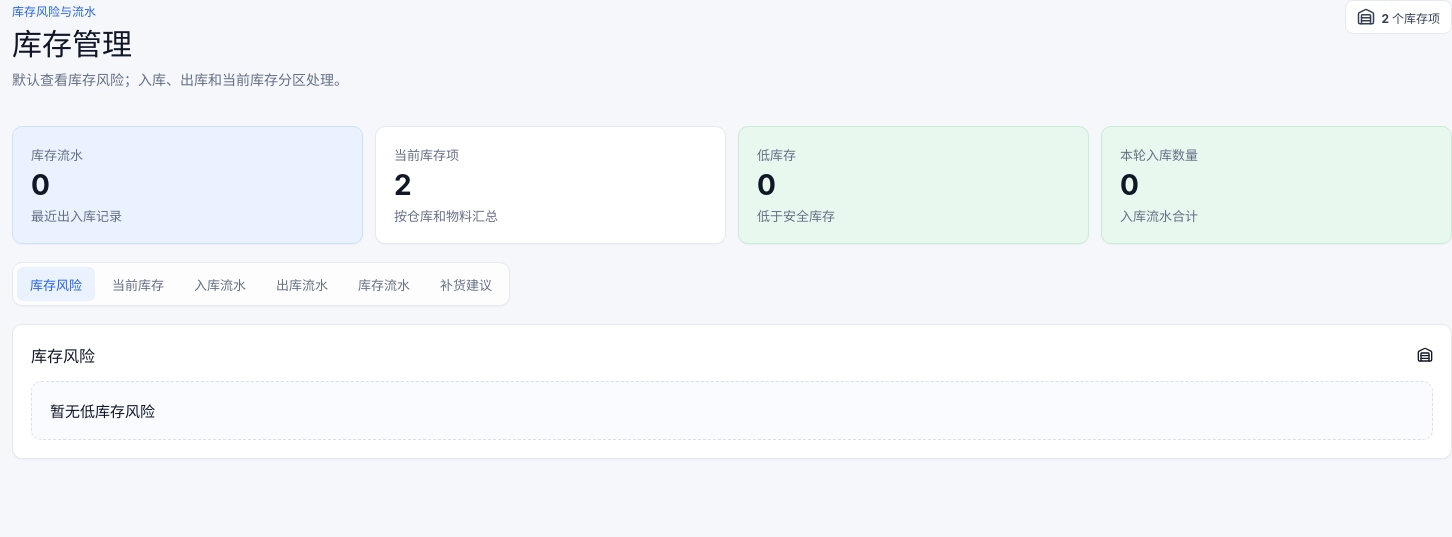
Test: Company ERP workspace components › sorts the current-stock table by quantity when the column header is clicked
Check: the text "暂无低库存风险" is shown, box [50, 402, 155, 422]
Click the tab "当前库存". click: (138, 284)
box: [99, 268, 177, 302]
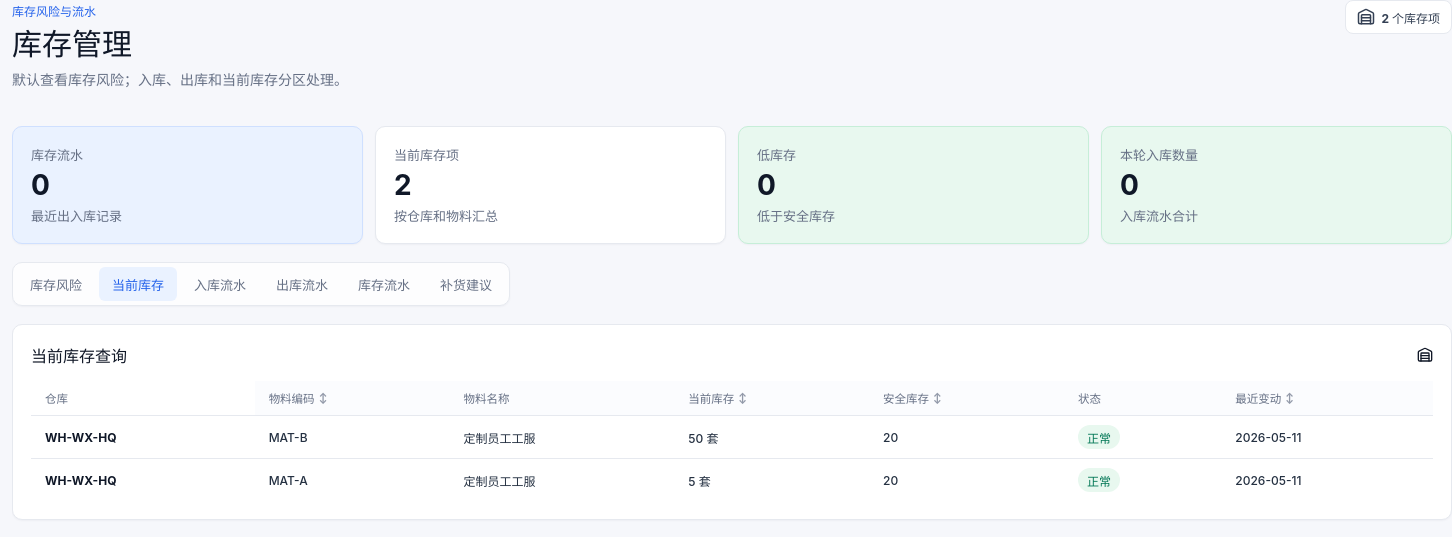
Check: the text "MAT-A" is shown, box [255, 459, 449, 502]
Check: the text "MAT-B" is shown, box [255, 416, 449, 459]
Click the button "当前库存 ↕". click: (718, 398)
box: [688, 390, 747, 406]
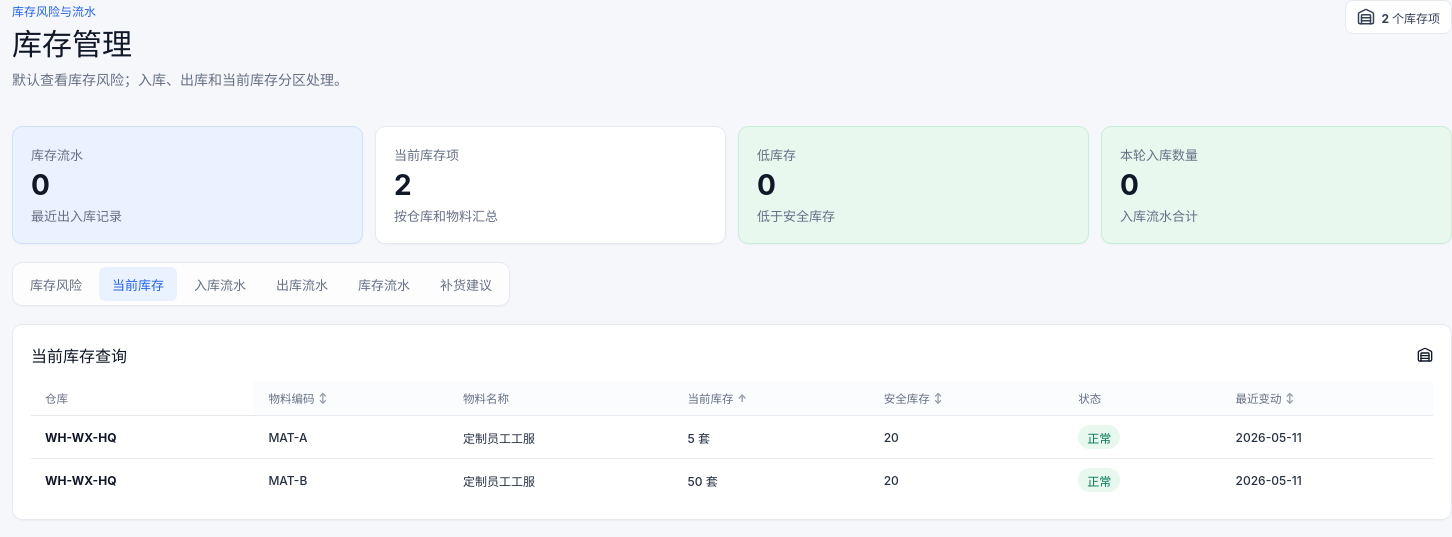
Check: the text "MAT-A" is shown, box [254, 416, 449, 459]
Click the button "当前库存 ↑". click: (717, 398)
box: [688, 390, 747, 406]
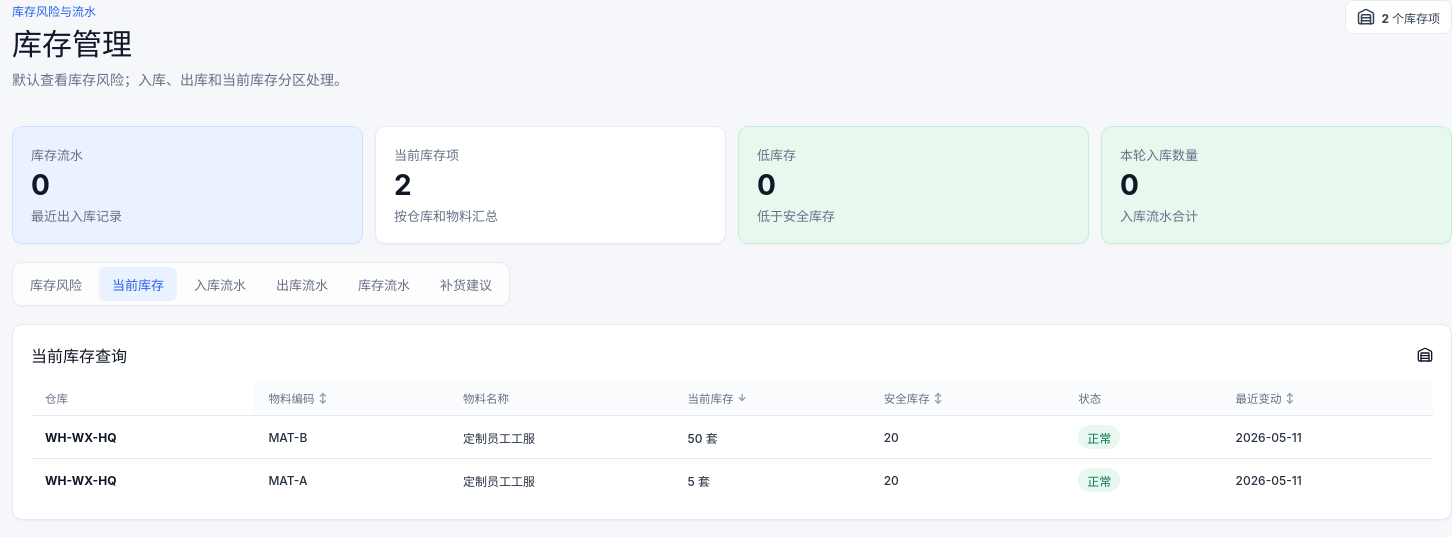
Check: the text "MAT-B" is shown, box [254, 416, 449, 459]
